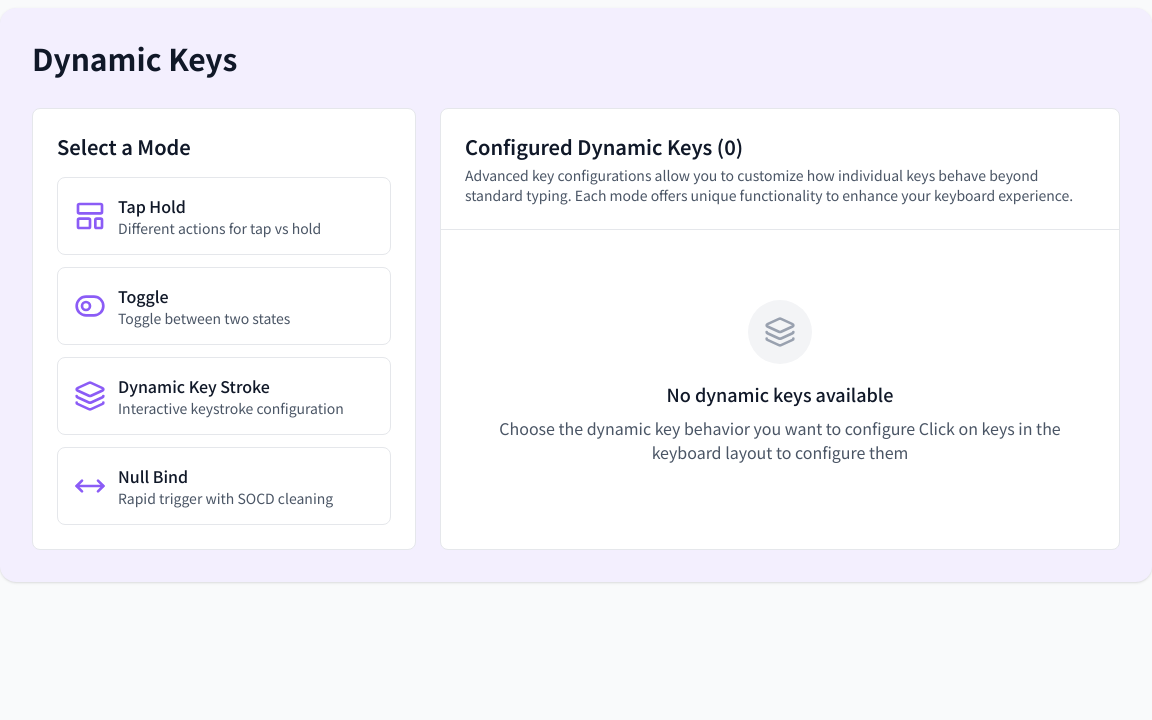
Test case: DKS editor › asks for a key until one is selected
The image size is (1152, 720).
Click the button "Dynamic Key Stroke Interactive keystroke configuration".
click(224, 396)  # box [57, 357, 391, 435]
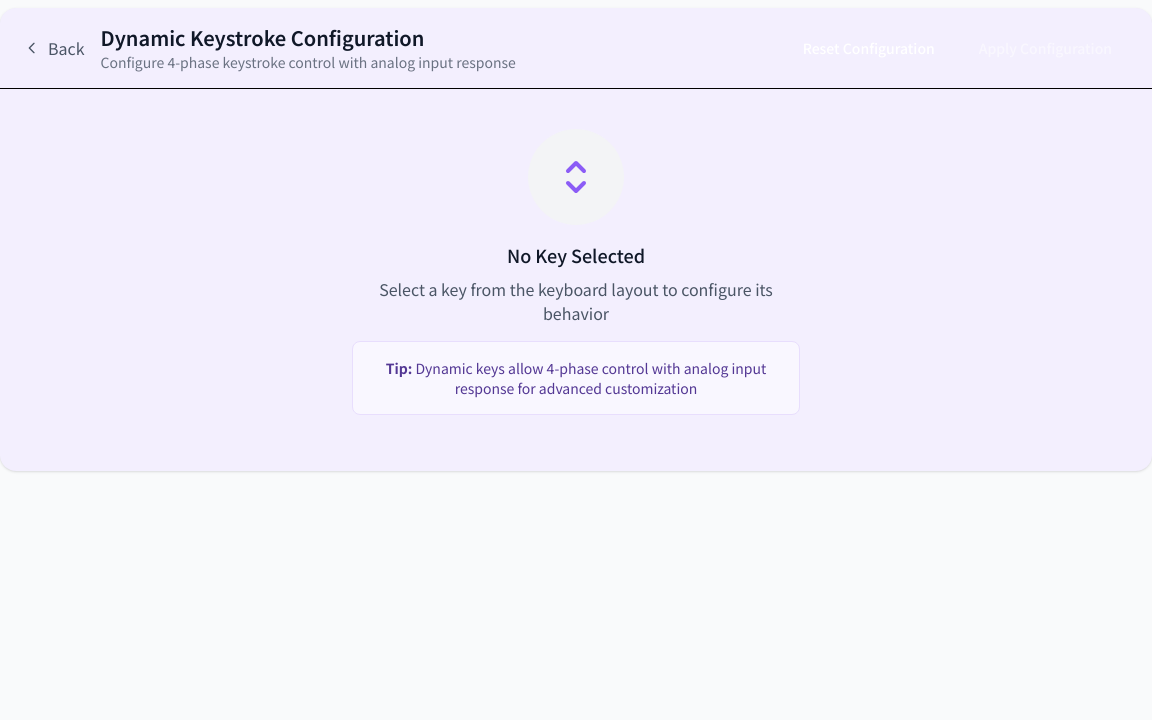
Result: the heading "Dynamic Keystroke Configuration" is shown at [100, 23, 424, 52]
Result: the text "Dynamic keys allow 4-phase control" is shown at [412, 358, 766, 398]
